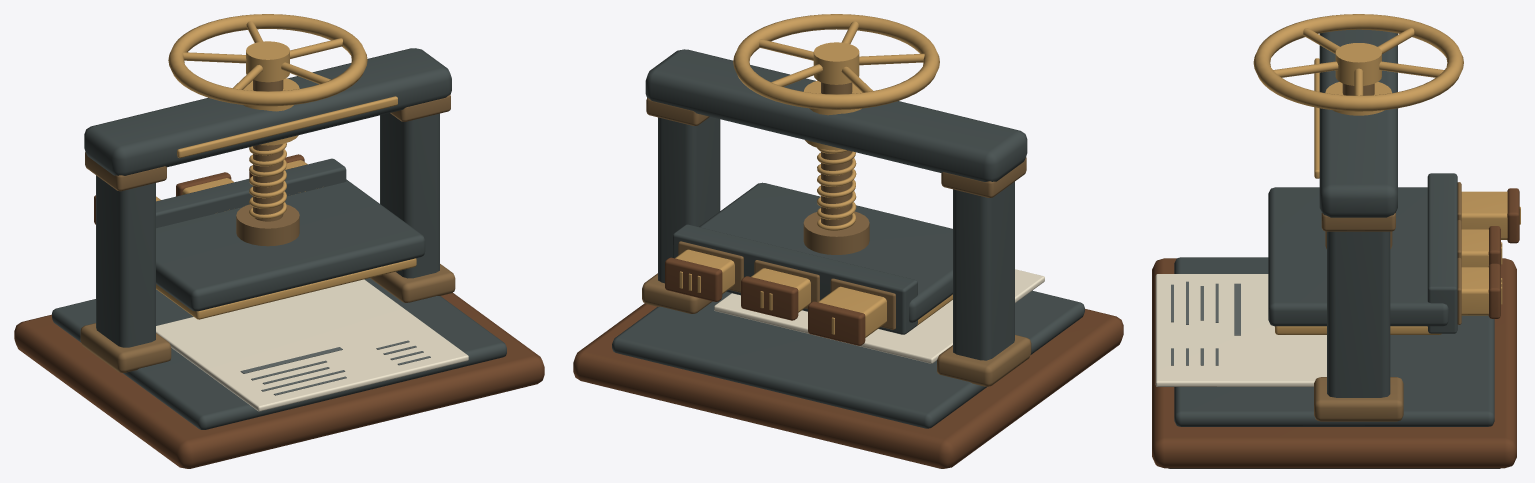
Rendered from report-press.glb.
3 views of the same model, side by side, from view 1: azimuth 30°, elevation 25°; view 2: azimuth 150°, elevation 25°; view 3: azimuth 270°, elevation 25° (orthographic). The views are drawn at different scales.
Parts seen in each view (by area): view 1: Walnut base, Report, Impression platen, Crosshead, Press bed, Cast upright, Cast upright.001, Handwheel, Rear module dock, Pillar shoe, Brass die plate, Crosshead brass face (+9 smaller); view 2: Walnut base, Press bed, Crosshead, Impression platen, Cast upright, Cast upright.001, Handwheel, Rear module dock, Report, Pillar shoe, Spindle foot, Module grip (+16 smaller); view 3: Walnut base, Press bed, Report, Impression platen, Cast upright.001, Crosshead, Handwheel, Rear module dock, Pillar shoe.001, Module 1, Wheel hub, Module 3 (+10 smaller).
Boxes of the visible parts, x1,y1,x2,y2 form: Walnut base: [14, 292, 544, 468]; Report: [156, 279, 468, 411]; Impression platen: [156, 179, 425, 311]; Crosshead: [84, 48, 451, 175]; Press bed: [52, 278, 506, 429]; Cast upright: [96, 175, 155, 347]; Cast upright.001: [380, 113, 439, 278]; Handwheel: [168, 14, 367, 106]; Rear module dock: [156, 158, 346, 228]; Pillar shoe: [80, 323, 171, 372]; Brass die plate: [156, 258, 416, 319]; Crosshead brass face: [177, 96, 397, 157]; Walnut base: [573, 303, 1123, 468]; Press bed: [612, 290, 1084, 428]; Crosshead: [645, 49, 1027, 181]; Impression platen: [699, 182, 952, 322]; Cast upright: [953, 182, 1014, 360]; Cast upright.001: [658, 117, 720, 283]; Handwheel: [733, 14, 939, 109]; Rear module dock: [673, 224, 917, 334]; Report: [714, 269, 1044, 363]; Pillar shoe: [937, 335, 1031, 386]; Spindle foot: [803, 211, 869, 254]; Module grip: [808, 301, 865, 345]; Walnut base: [1152, 258, 1516, 468]; Press bed: [1174, 257, 1494, 426]; Report: [1155, 274, 1326, 386]; Impression platen: [1268, 187, 1448, 326]; Cast upright.001: [1327, 231, 1390, 397]; Crosshead: [1319, 29, 1397, 217]; Handwheel: [1253, 14, 1463, 111]; Rear module dock: [1427, 173, 1457, 333]; Pillar shoe.001: [1314, 377, 1403, 421]; Module 1: [1461, 191, 1507, 239]; Wheel hub: [1335, 43, 1381, 85]; Module 3: [1461, 267, 1488, 315].
Bounding box in the file's own units: 2.4 × 1.95 × 1.98.
